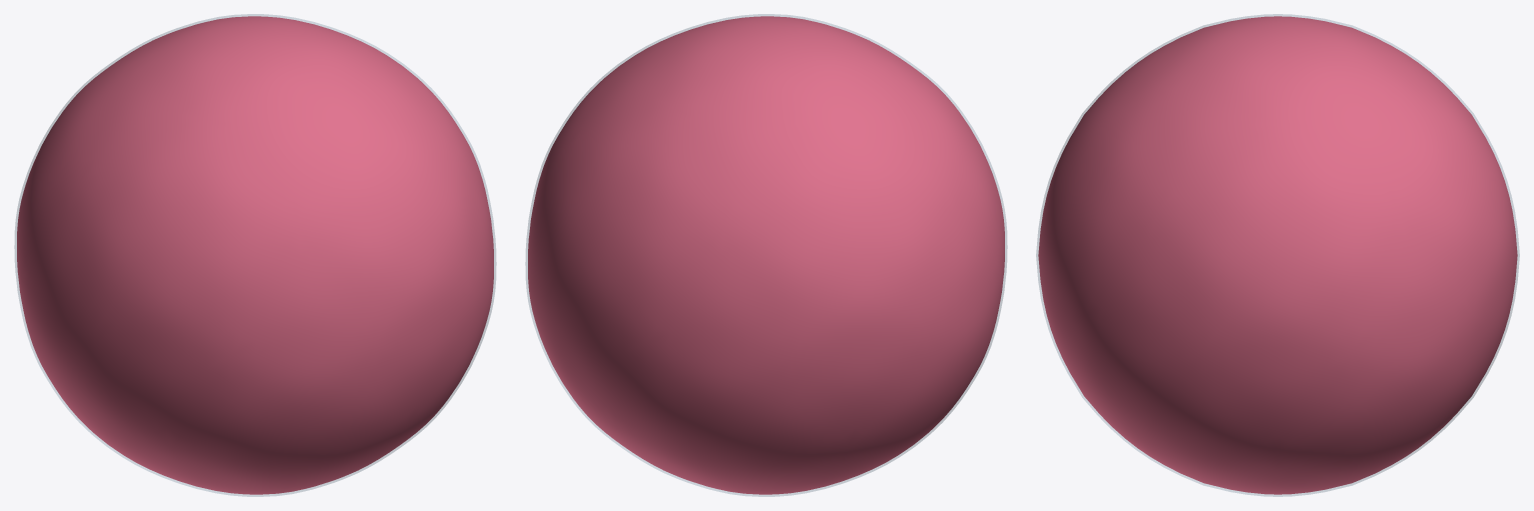
Rendered from smallurf.fbx.
3 views of the same model, side by side, from view 1: azimuth 30°, elevation 25°; view 2: azimuth 150°, elevation 25°; view 3: azimuth 270°, elevation 25° (orthographic).
Parts seen in each view (by area): view 1: Atmosphere, Clouds; view 2: Atmosphere, Clouds; view 3: Atmosphere, Clouds.
Boxes of the visible parts, x1,y1,x2,y2 form: Atmosphere: [14, 14, 496, 496]; Clouds: [17, 16, 493, 494]; Atmosphere: [525, 14, 1007, 496]; Clouds: [528, 16, 1004, 494]; Atmosphere: [1036, 14, 1519, 496]; Clouds: [1038, 16, 1517, 494].
Bounding box in the file's own units: 1.89 × 1.9 × 1.89.
